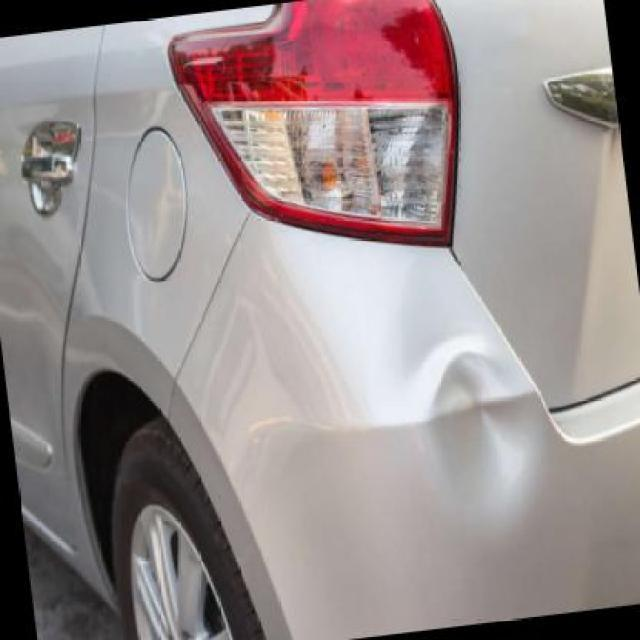dent: (425, 333, 546, 528)
